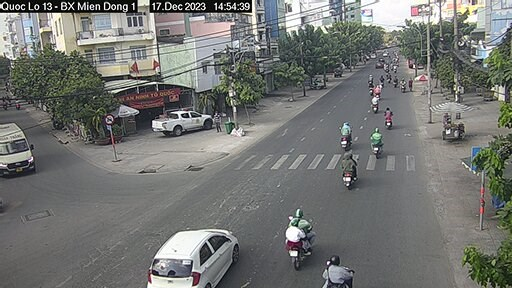car: (139, 218, 246, 288), (1, 115, 55, 197), (145, 106, 223, 144)
motorbike: (278, 207, 321, 273), (309, 245, 357, 284), (331, 118, 362, 152), (341, 153, 365, 193), (366, 128, 386, 160), (385, 107, 399, 137)
